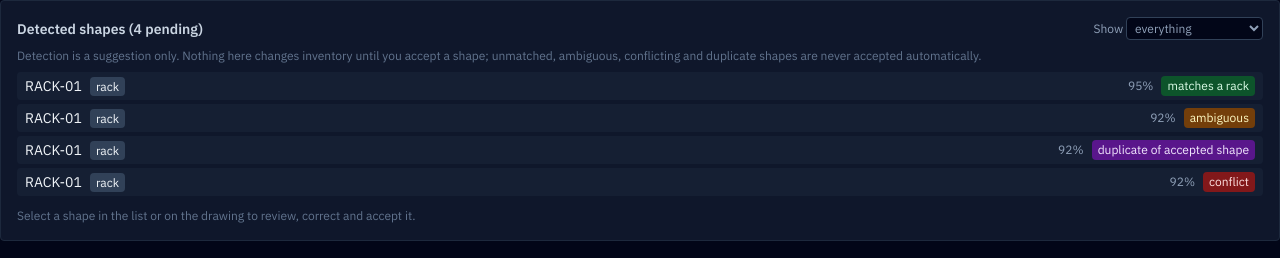
Test: CandidateReview › surfaces ambiguous, conflicting and duplicate shapes for closer review
Select "needs closer review" in the dropdown named "Filter candidates": (1194, 28) x1=1126 y1=17 x2=1263 y2=40
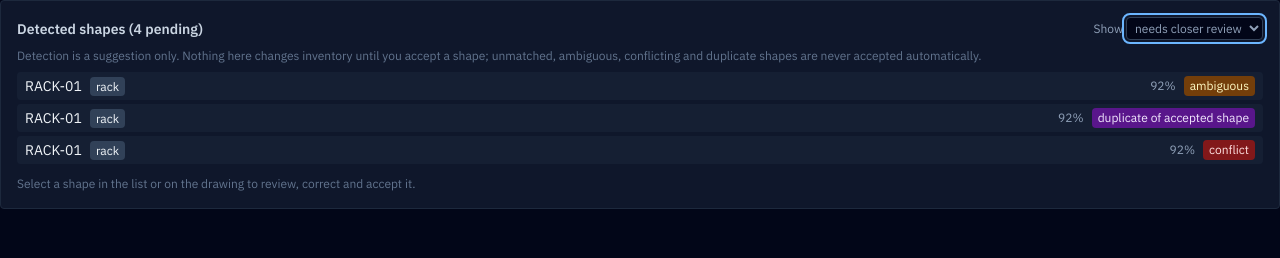
Expected: the button with test id "row-dup" shows "duplicate of accepted shape", x1=17 y1=104 x2=1263 y2=132
Expected: the button with test id "row-ok" is gone
